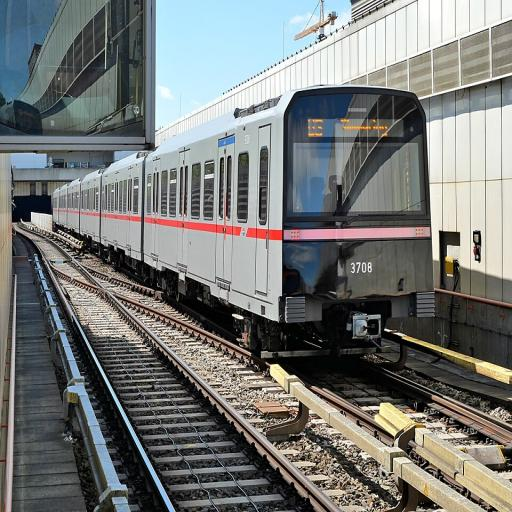X-Wagen: (50, 84, 438, 332)
